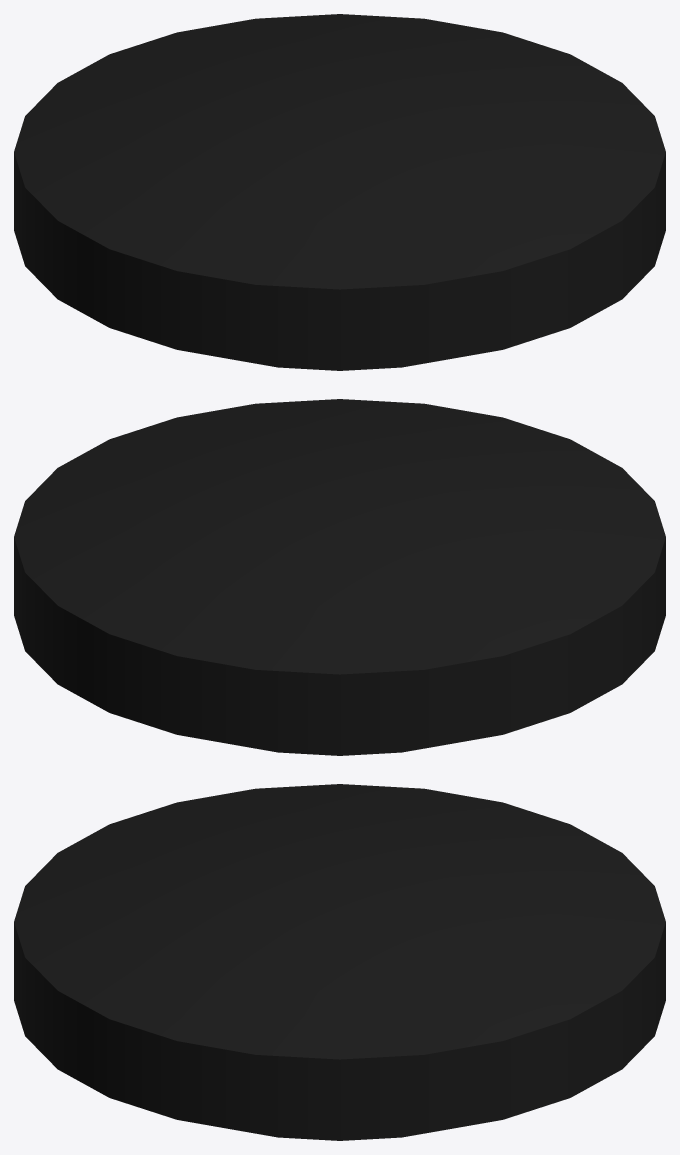
The model's file is rotanev_cap_s0p5_1.obj.
3 renders of one model, top to bottom at view 1: azimuth 30°, elevation 25°; view 2: azimuth 150°, elevation 25°; view 3: azimuth 270°, elevation 25°, orthographic.
Parts seen in each view (by area): view 1: rotanev_cap_s0p5_1; view 2: rotanev_cap_s0p5_1; view 3: rotanev_cap_s0p5_1.
Part boxes in pixels (x1=…): rotanev_cap_s0p5_1: x1=14, y1=14, x2=665, y2=370; rotanev_cap_s0p5_1: x1=14, y1=399, x2=665, y2=755; rotanev_cap_s0p5_1: x1=14, y1=784, x2=665, y2=1140.
Bounding box in the file's own units: 0.9375 × 0.25 × 0.9375.
